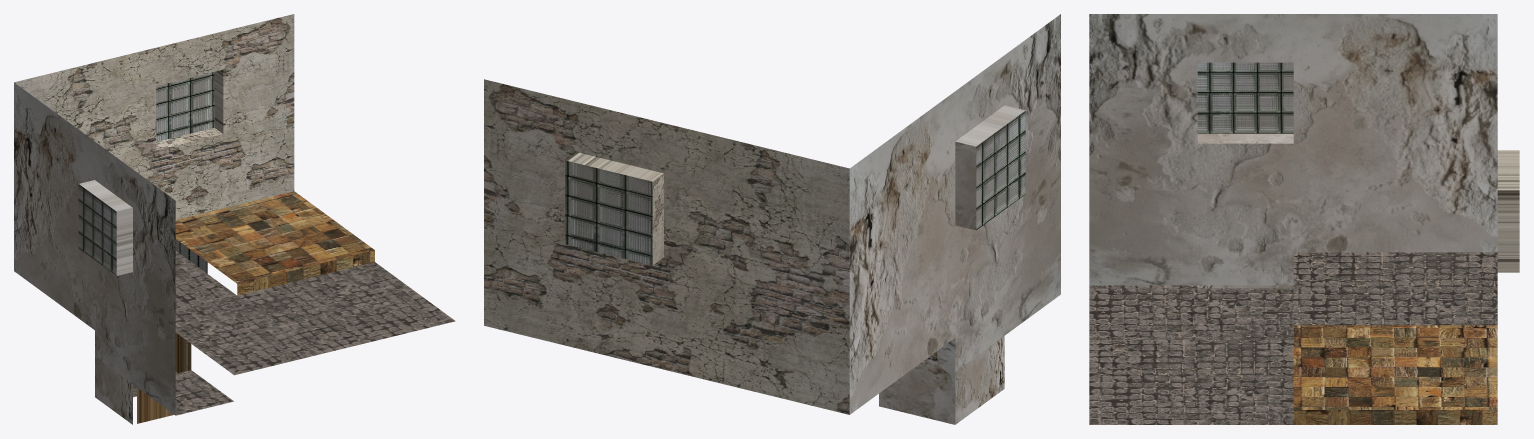
File: house3_upper.fbx
The picture shows the model from 3 angles, left to right: view 1: azimuth 30°, elevation 25°; view 2: azimuth 150°, elevation 25°; view 3: azimuth 270°, elevation 25°; orthographic projection. The views are drawn at different scales.
Visible parts, largest first — view 1: Plane; view 2: Plane; view 3: Plane.
Boxes of the visible parts, bbox=[...] form: Plane: bbox=[14, 14, 455, 424]; Plane: bbox=[484, 14, 1060, 424]; Plane: bbox=[1089, 14, 1519, 424].
Bounding box in the file's own units: 875 × 721 × 871.
